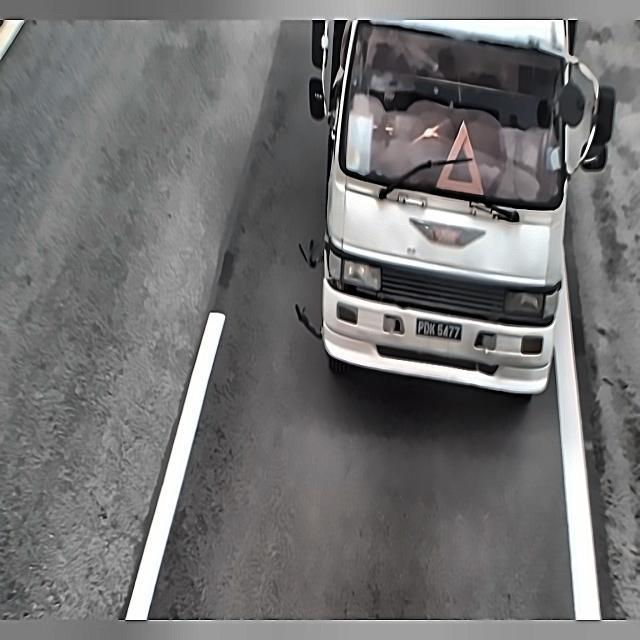car: (408, 312, 470, 346)
